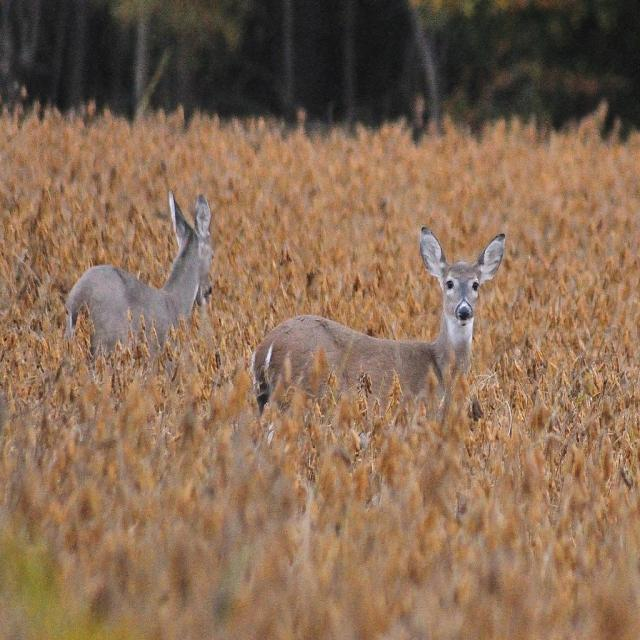Deer: (250, 226, 505, 423), (64, 188, 215, 350)
